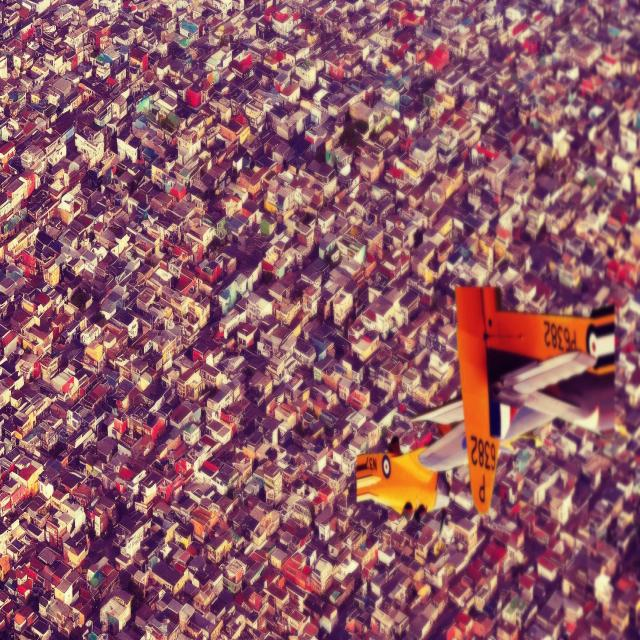airplane: (356, 284, 616, 514)
